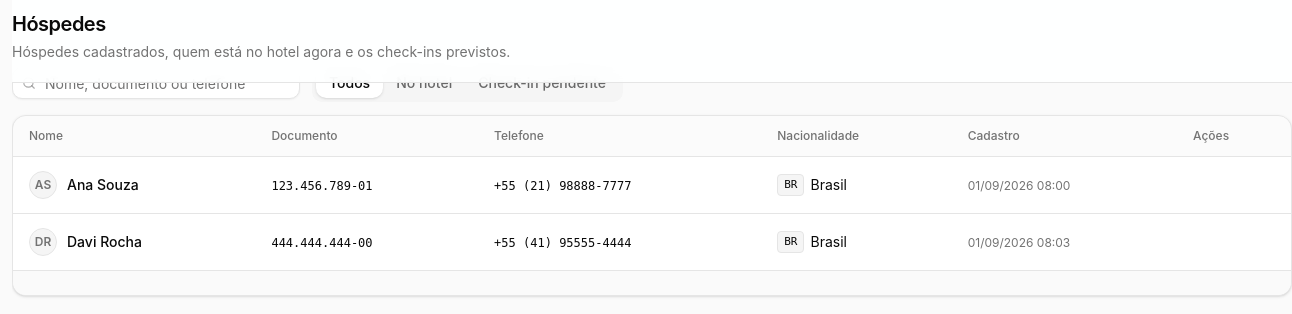
Scenario: GuestTable · RF3 · RF4 · RF5 › mostra o quarto e marca a acompanhante na aba do hotel
This screenshot has width=1292, height=314.
Expected: the text "Ana Souza" is shown, [67, 174, 139, 194]
Click the tab "No hotel".
click(424, 83)  # box [383, 68, 465, 98]
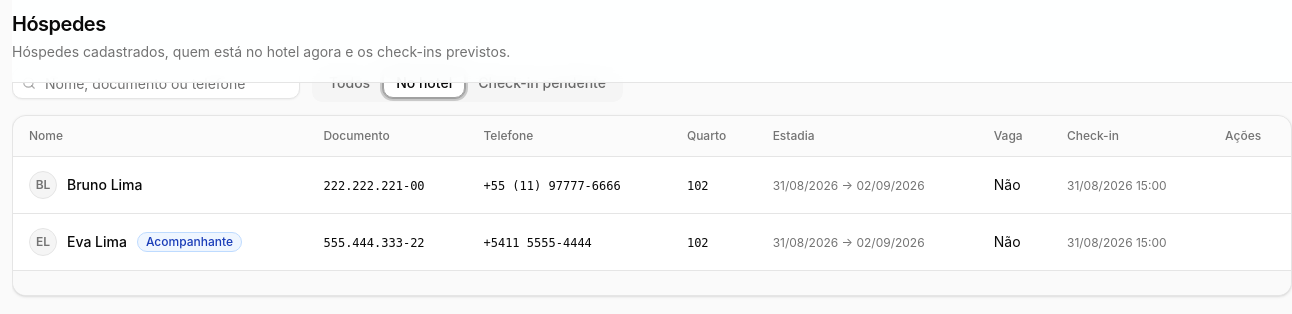
Now the text "Bruno Lima" is shown, box [67, 174, 142, 194]
Now the text "102" in the row of "BL" is shown, box [687, 178, 709, 192]
Now the text "Eva Lima" is shown, box [67, 232, 127, 252]
